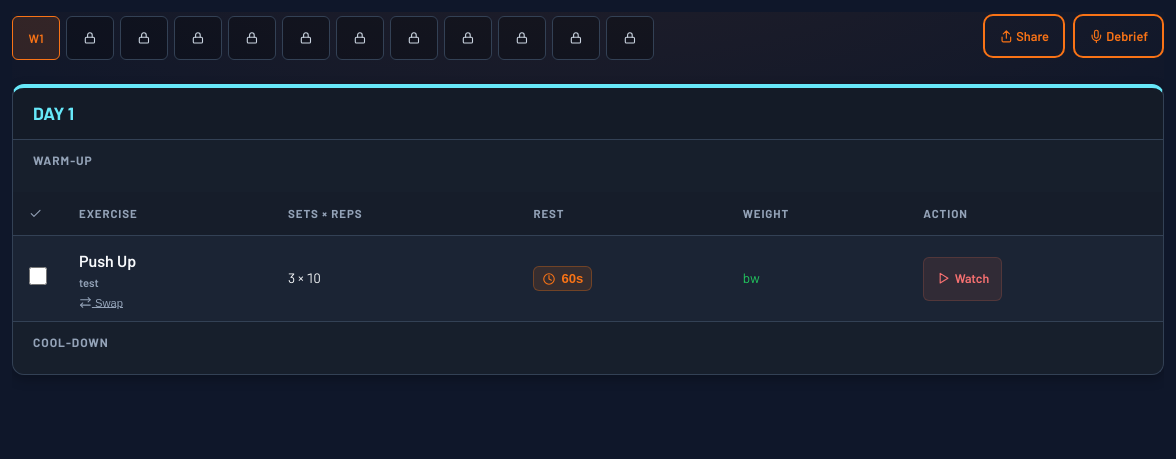
Test case: MyPlan Error Paths › handles AI swap error gracefully
Click swap
Step 1. Click the button "Swap" → [101, 302], box [79,296,123,308]
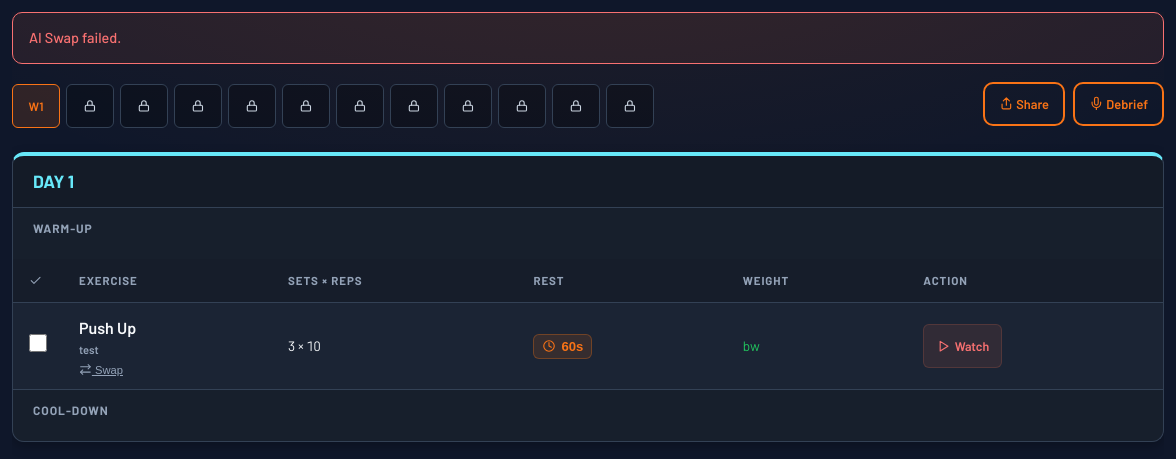
expect the button "Swap" is shown: met, box [79,363,123,376]
expect the text "AI Swap failed." is shown: met, box [12,12,1164,64]
